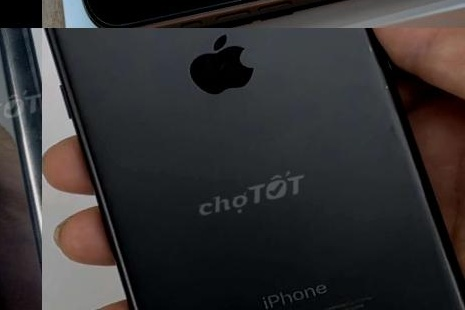scratch: (25, 206, 42, 248), (357, 28, 378, 57), (378, 77, 396, 96)
